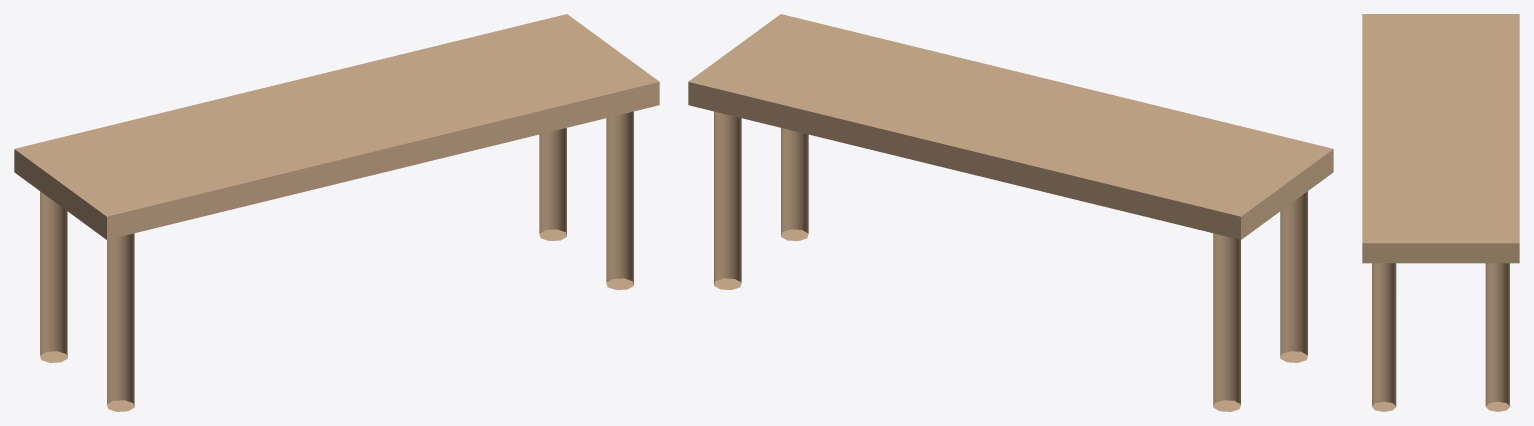
The model's file is bench_05.glb.
The picture shows the model from 3 angles, left to right: view 1: azimuth 30°, elevation 25°; view 2: azimuth 150°, elevation 25°; view 3: azimuth 270°, elevation 25°; orthographic projection. The views are drawn at different scales.
Size of the model in its own units: 1.24 by 0.44 by 0.36.
